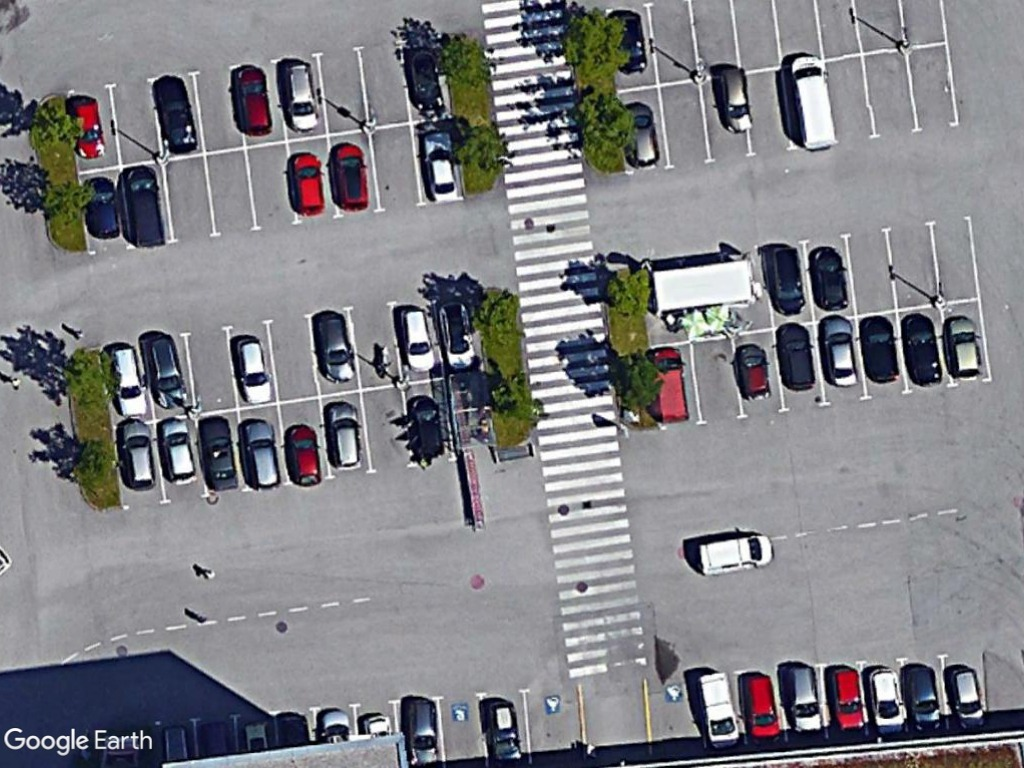car: (140, 328, 191, 417), (690, 526, 774, 579), (775, 657, 826, 743), (815, 311, 864, 394), (234, 415, 285, 494), (104, 340, 153, 421), (899, 310, 947, 391), (226, 331, 275, 410), (152, 412, 201, 491), (113, 415, 160, 497), (806, 241, 854, 321), (822, 660, 870, 740), (899, 660, 947, 740), (195, 412, 240, 497), (710, 62, 758, 139), (739, 669, 783, 752), (419, 126, 464, 207), (774, 318, 819, 398), (229, 62, 275, 140), (940, 310, 987, 386), (285, 144, 329, 223), (327, 139, 372, 215), (314, 310, 359, 386), (321, 397, 364, 476), (858, 312, 902, 389), (764, 246, 809, 321), (394, 301, 439, 376), (277, 59, 321, 133), (279, 418, 323, 491), (946, 660, 988, 733)
van: (783, 47, 841, 159), (117, 160, 168, 253)
